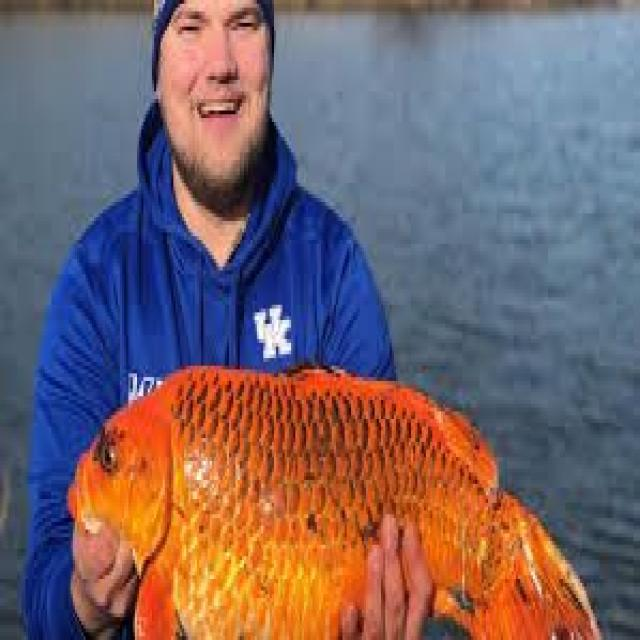Gold-Fish: (32, 301, 640, 636)
